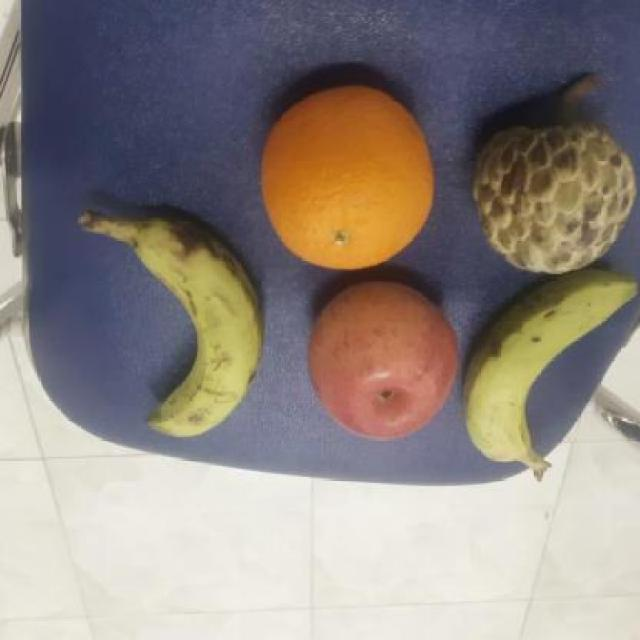apple: (302, 278, 460, 444)
banana: (460, 265, 640, 468), (135, 216, 269, 444)
oren: (259, 81, 433, 272)
sugar apple: (471, 118, 640, 276)
